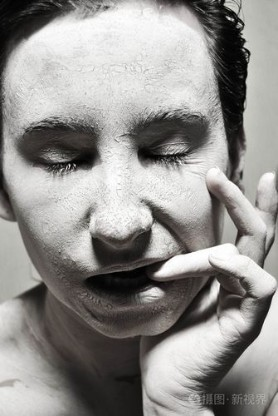闭眼: (131, 130, 206, 170), (25, 137, 87, 174)
